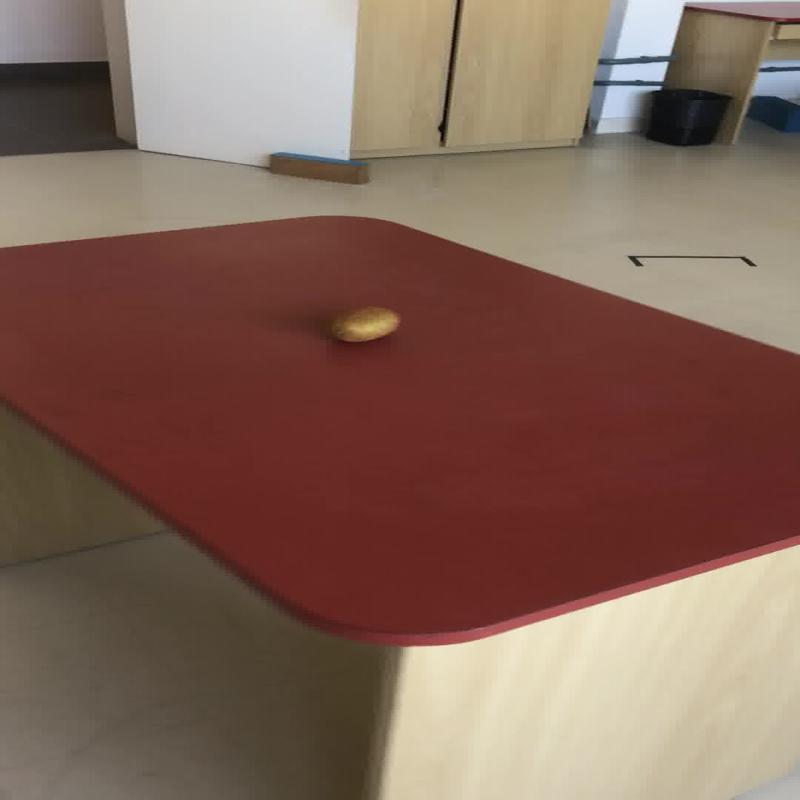kiwi: (329, 306, 400, 342)
